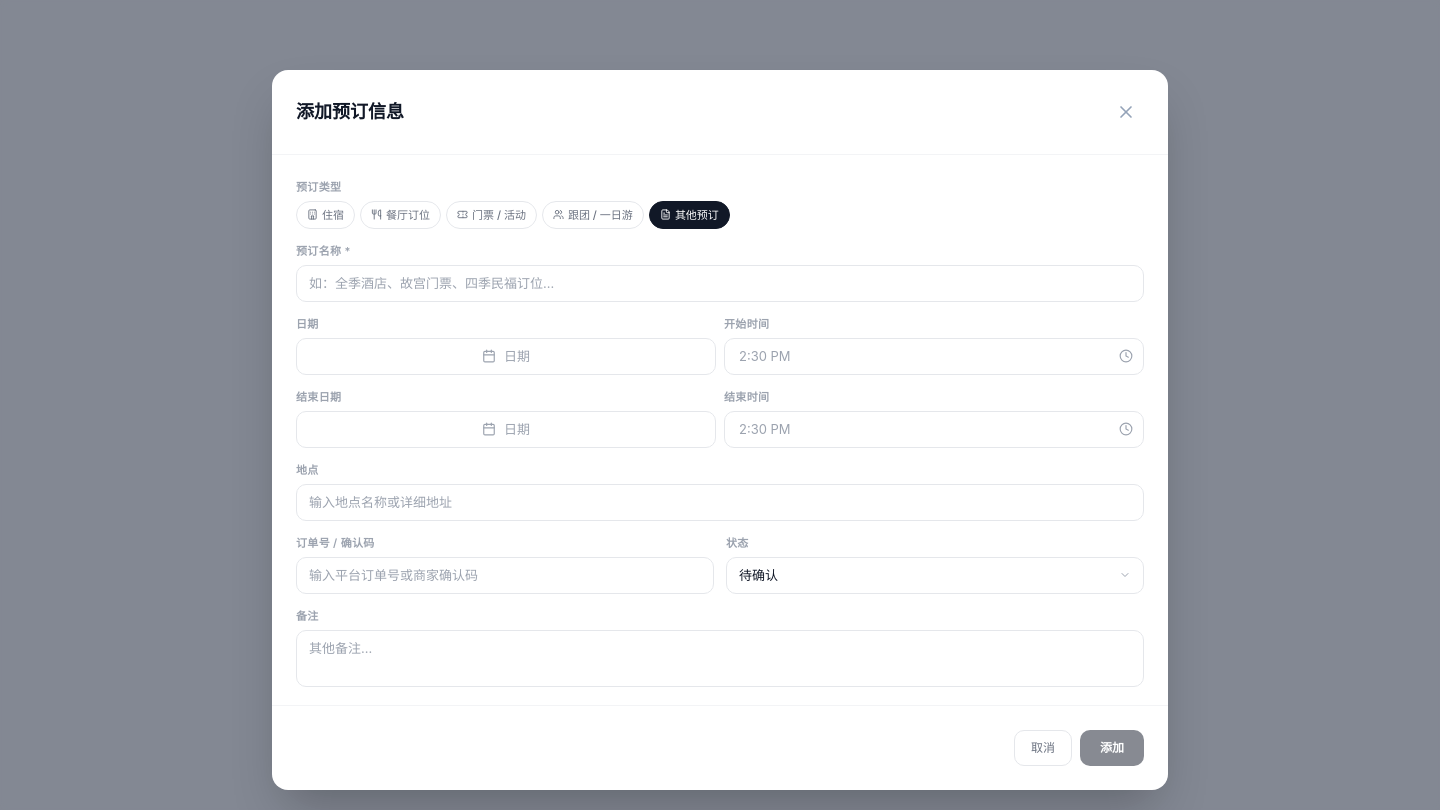
Scenario: ReservationModal › FE-PLANNER-RESMODAL-019: save button is disabled while saving
In the field with placeholder "如：全季酒店、故宫门票、四季民福订位...": (720, 283) [296,264,1144,302], type "测试预订"
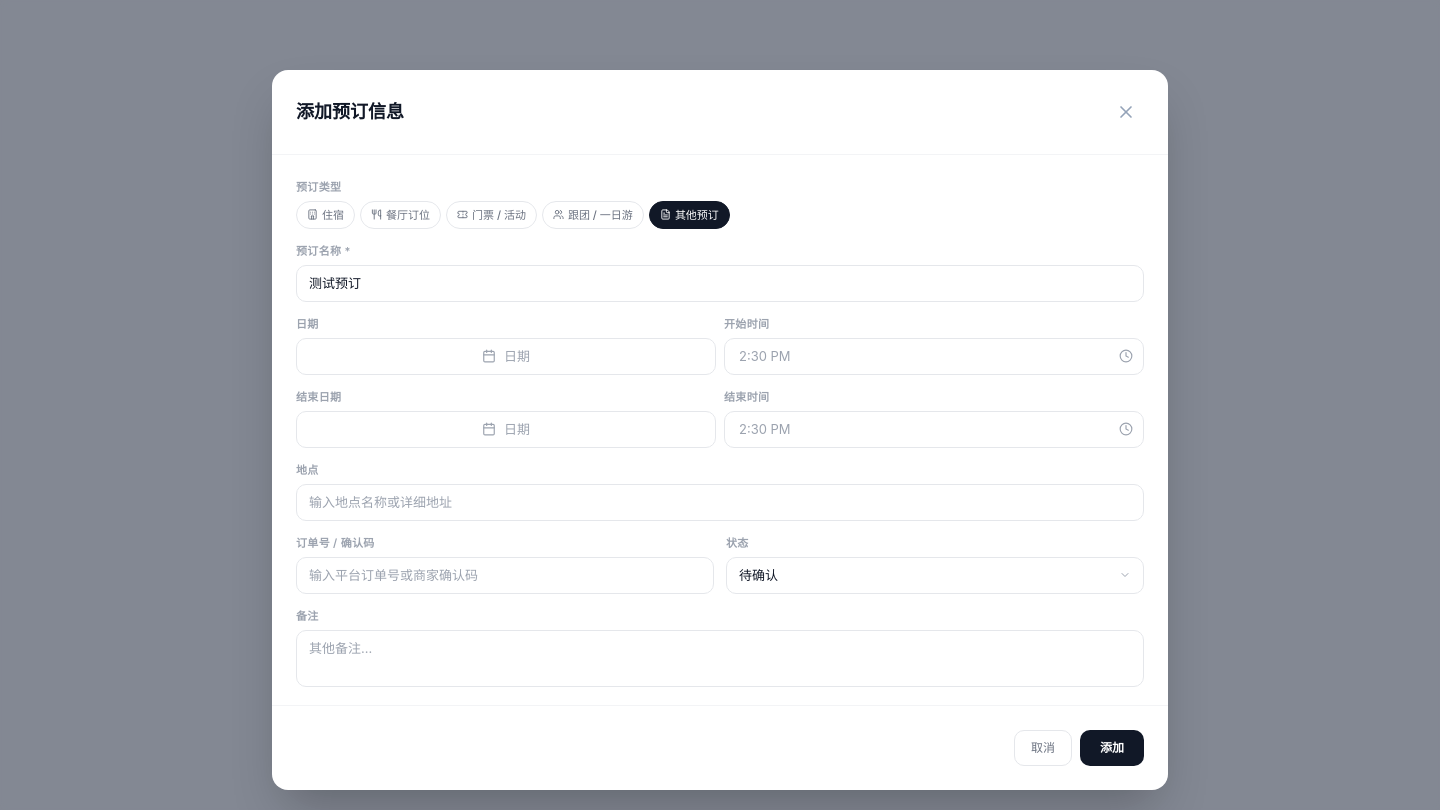
Click the button "添加": (1112, 748) [1080,730,1144,766]
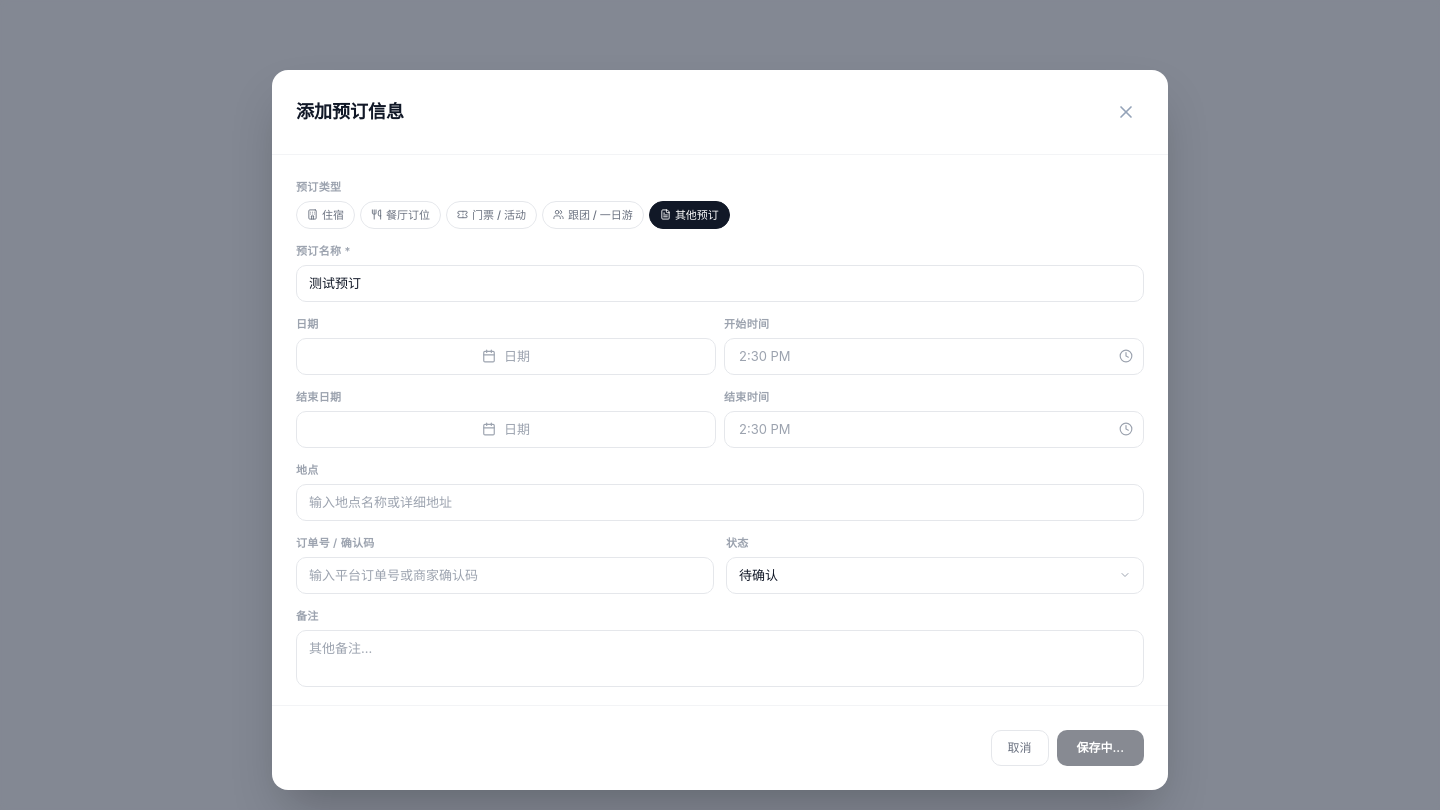
Expected: the button "保存中..." is disabled, [1056,730,1144,766]
